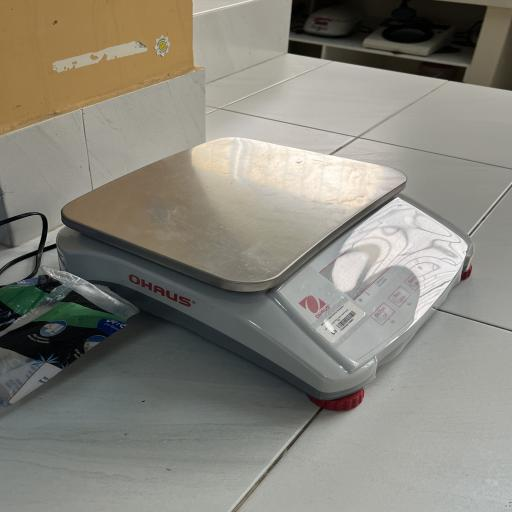Balanza_Granataria_Ohaus: (47, 128, 484, 422)
